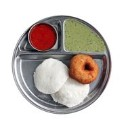idly: (33, 58, 68, 93), (51, 75, 90, 106)
